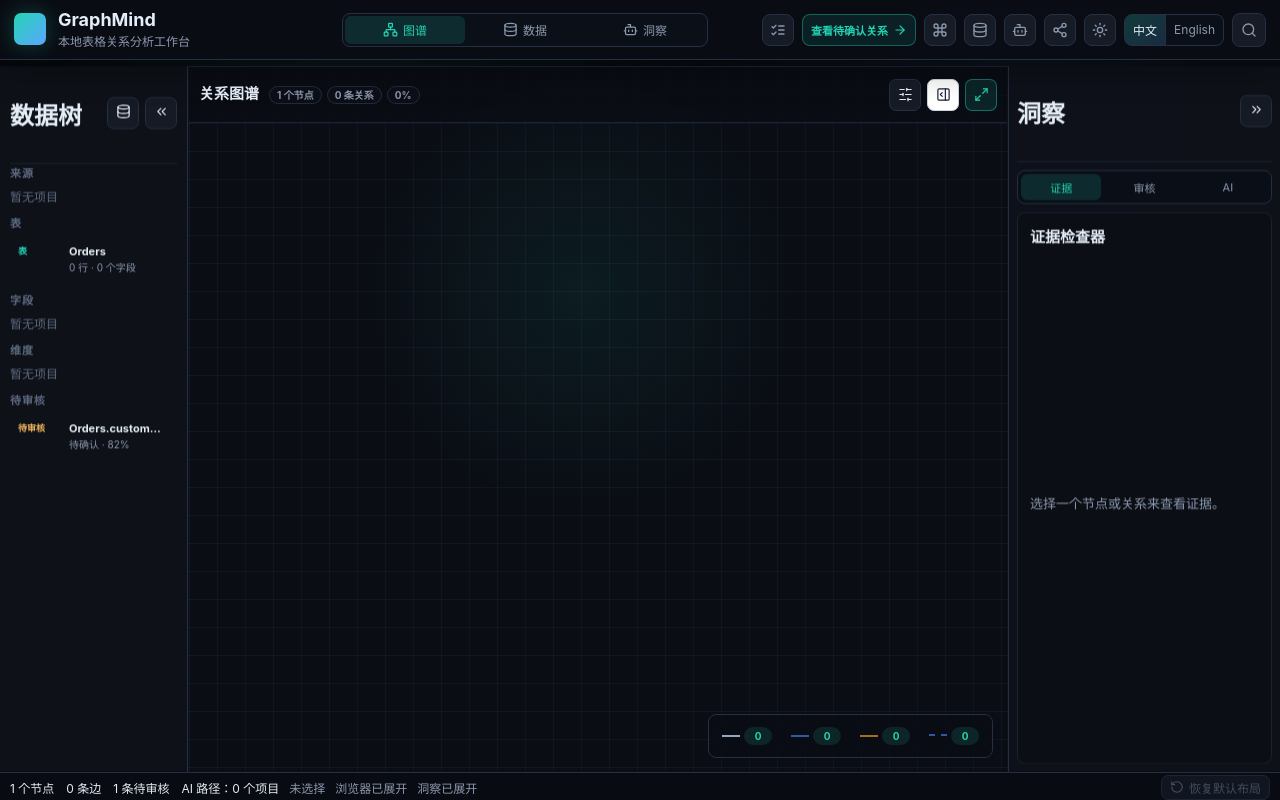
Scenario: App relationship review wiring › resets the current project data after confirmation
Expected: the button with aria-label "选择 Orders" is shown, [10,237,173,281]
Click the button named "数据操作": click(123, 113) [107,97,139,129]
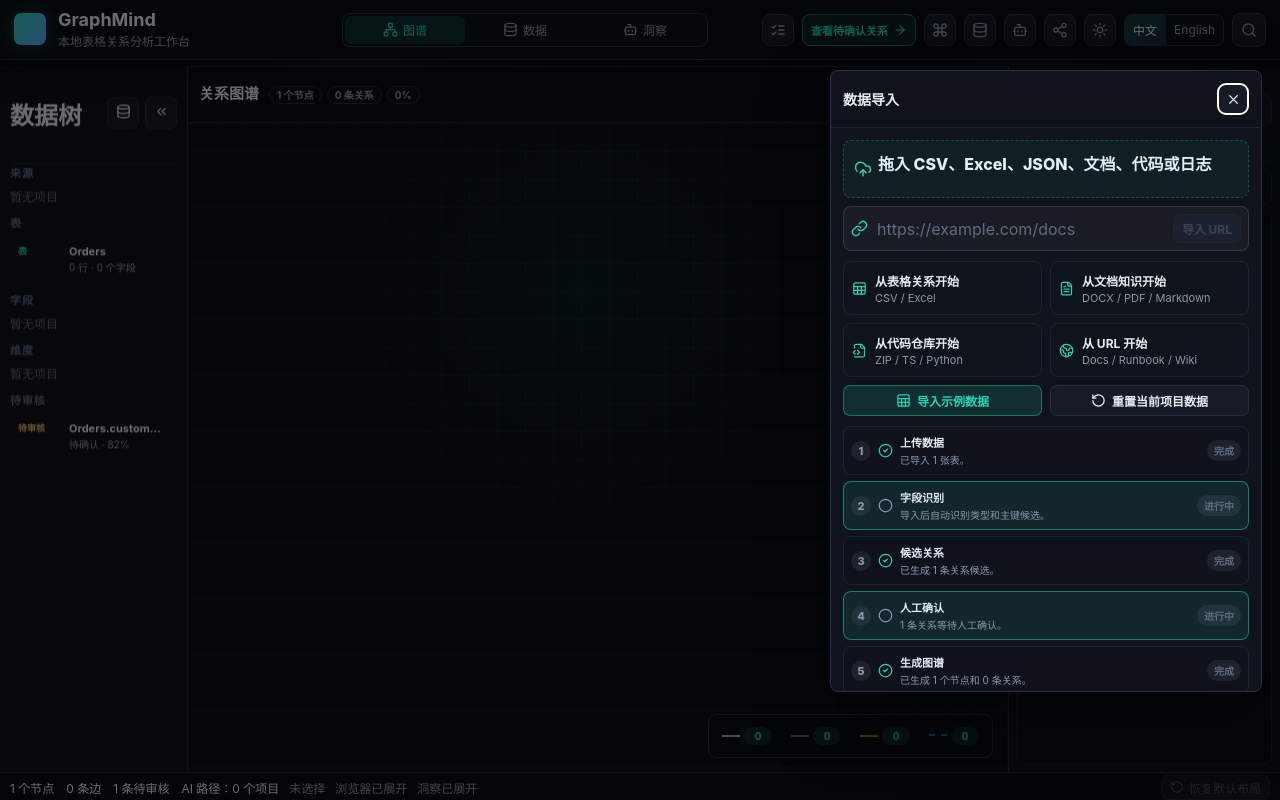
Click the button "重置当前项目数据": click(1150, 400) [1050,385,1249,416]
(page scrolled)
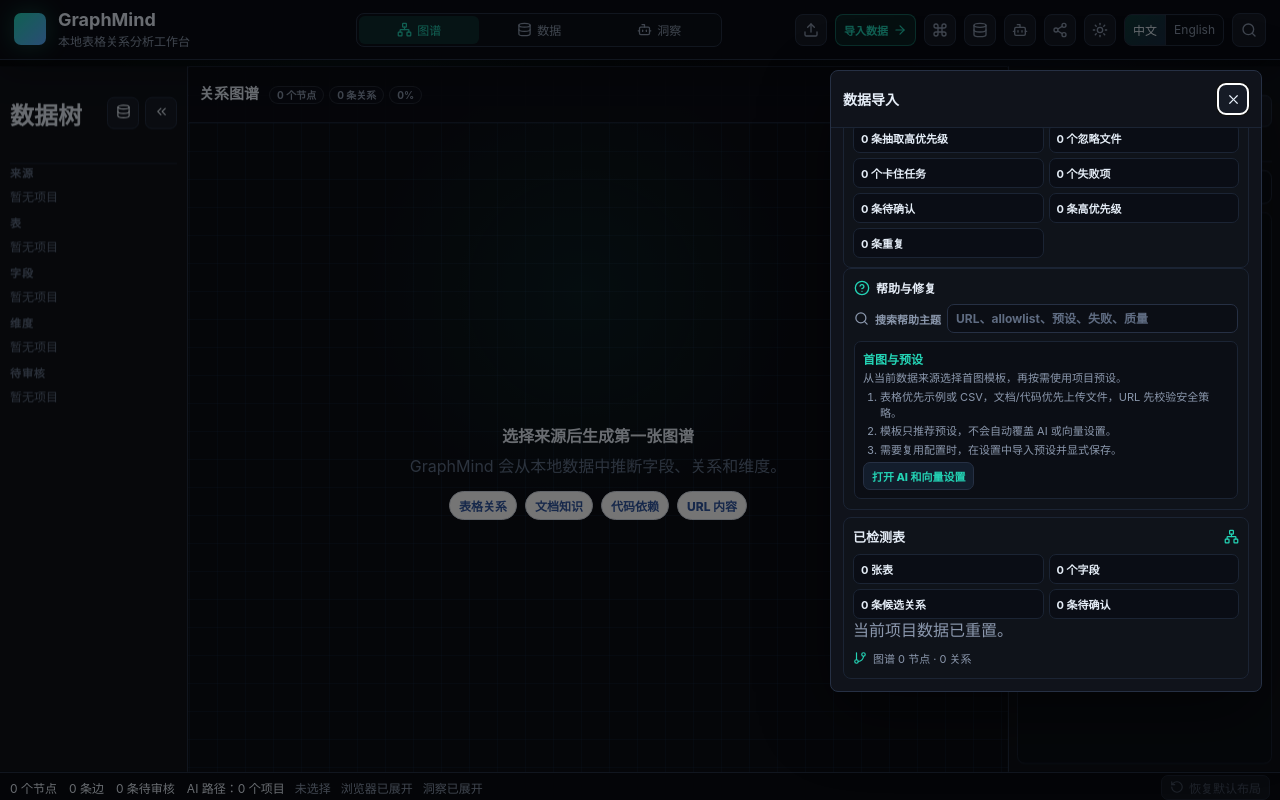
Now the text "当前项目数据已重置。" is shown, box [853,620,1013,640]
